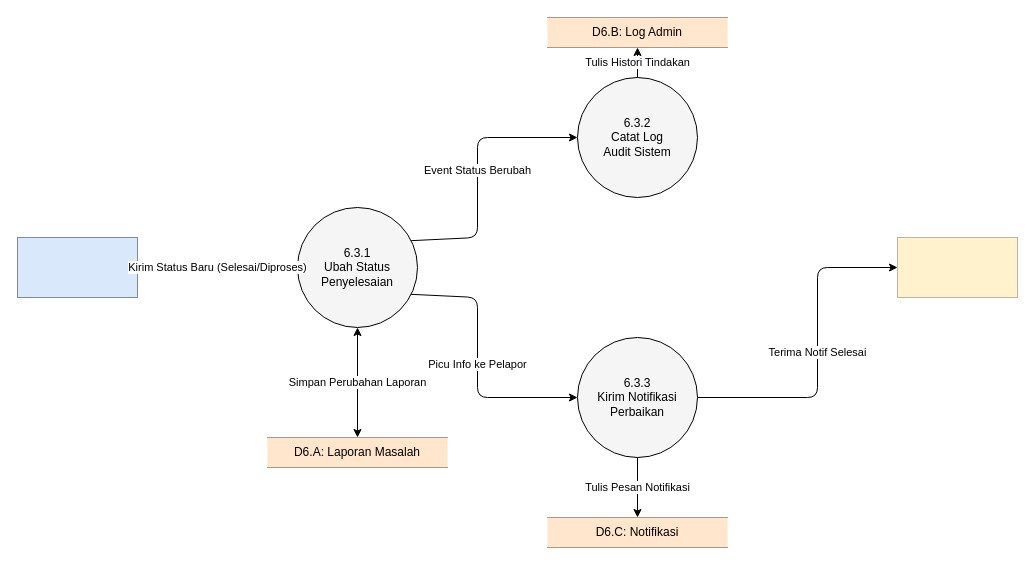
The diagram is 1035 pixels wide and 565 high, and some of its shapes have lost their labels. Each missing label, with the box of its shape:
ADMIN: (16, 236, 138, 298)
PENGGUNA: (896, 236, 1018, 298)
